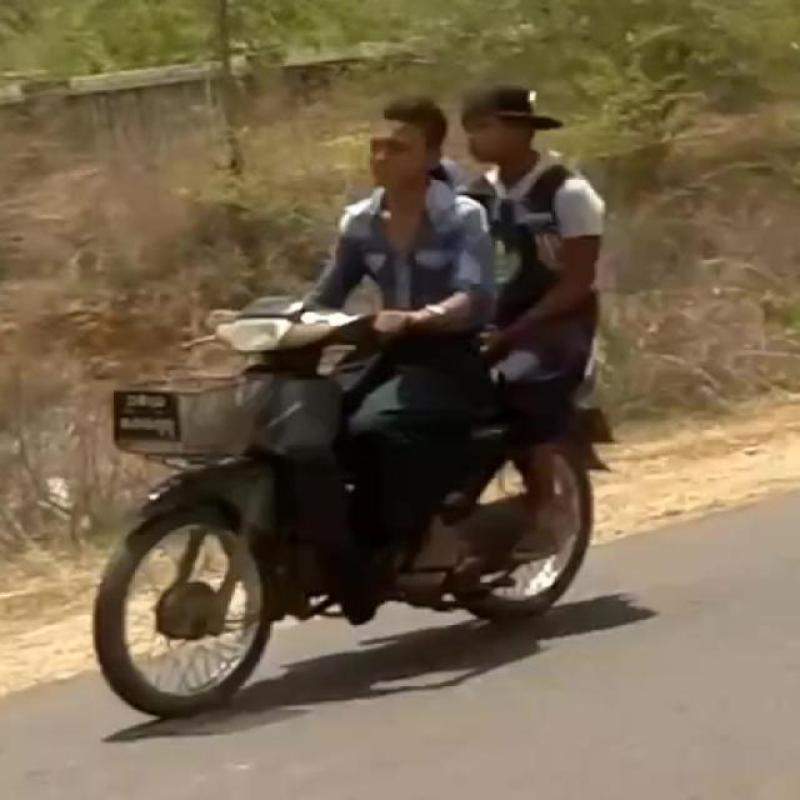nohelmet: (333, 63, 457, 204), (464, 73, 560, 194)
